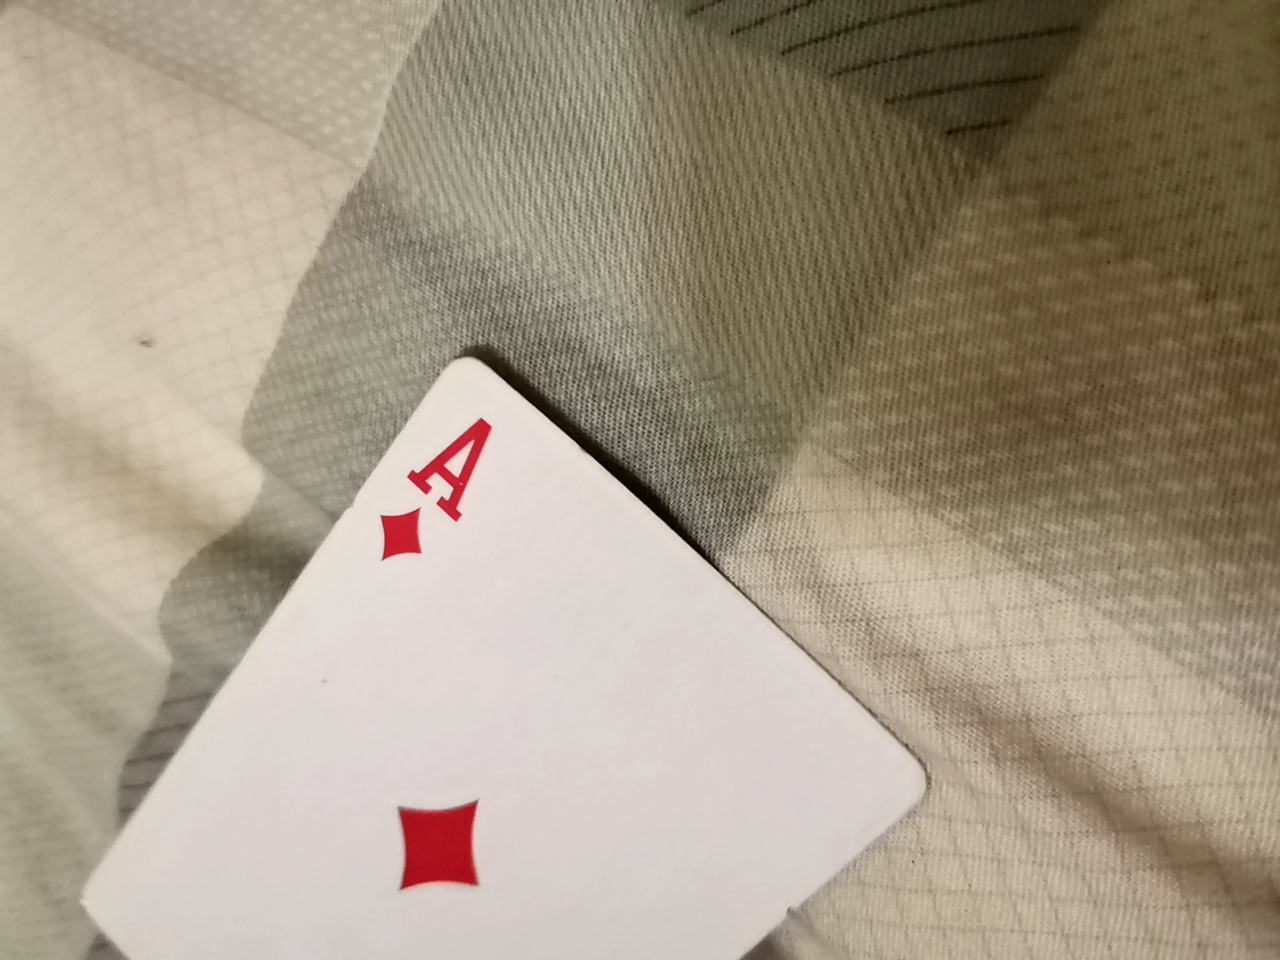fk a: (54, 355, 938, 956)
